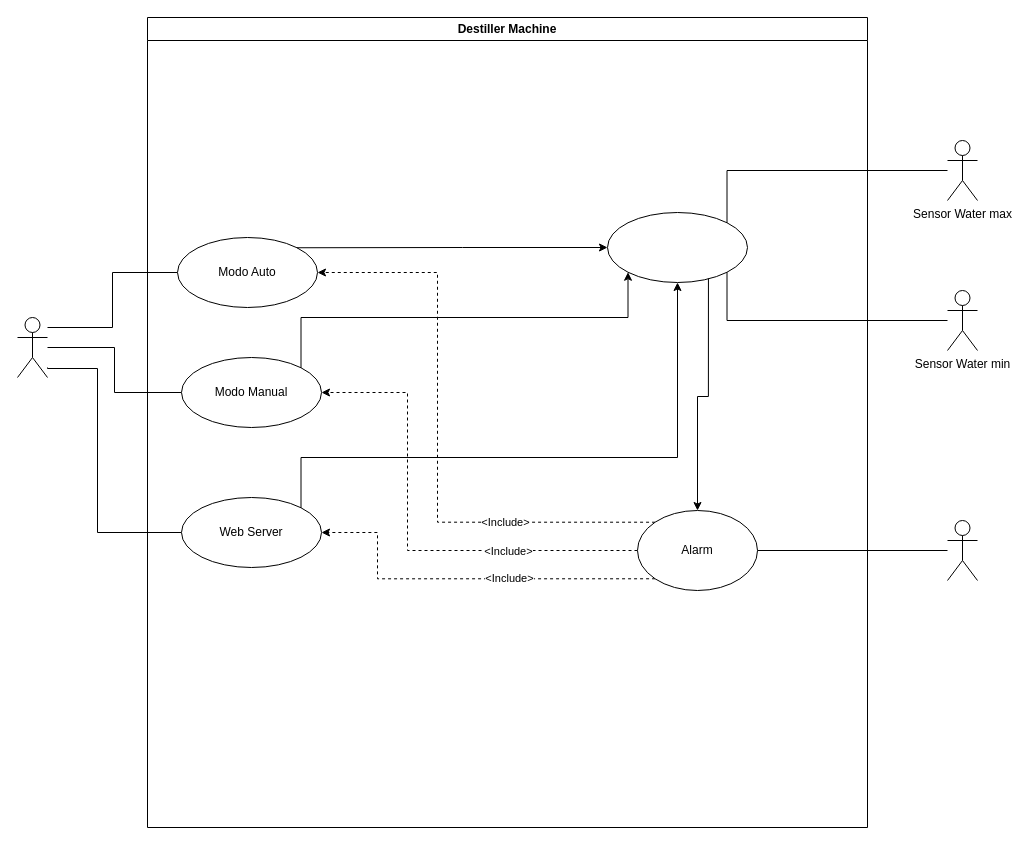
This 1033x845 diagram has some shape labels left out. Here are the shapes that lost their labels. From the top down, the box of each, then its label:
(606, 212, 748, 282): Water Lvl Management
(16, 316, 48, 378): User
(946, 520, 978, 580): Sensor Water Alarm
